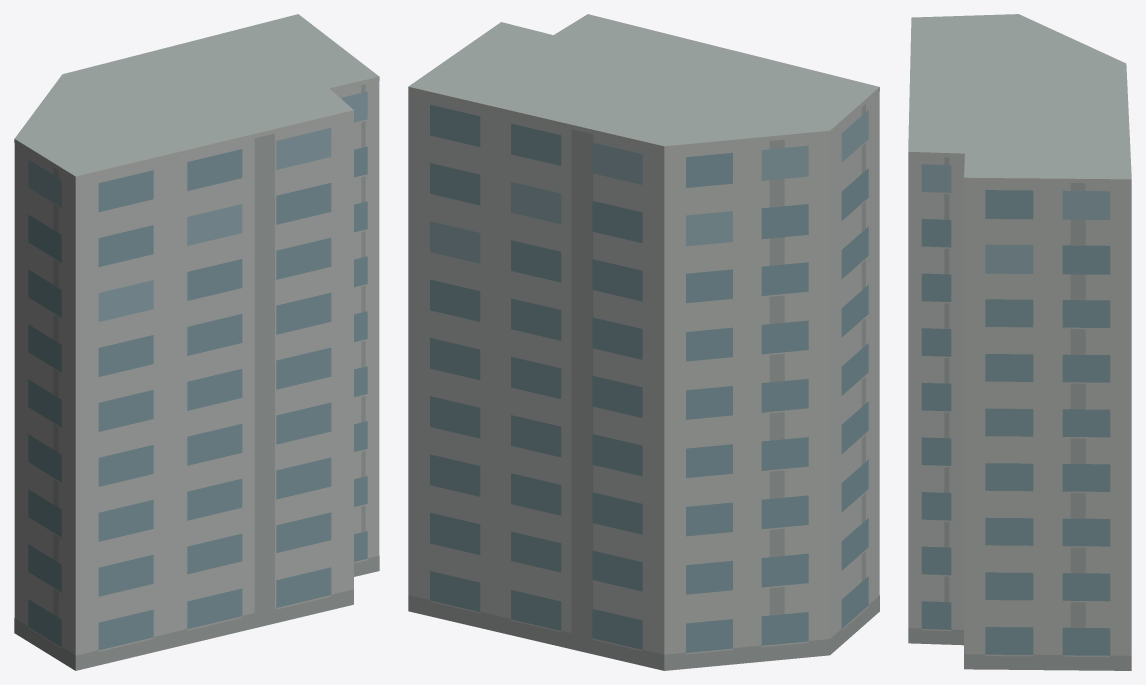
The model's file is residential-b4e7c69e-4fcd-42b4-9d0d-e96d8b46da41.glb.
3 renders of one model, left to right at view 1: azimuth 30°, elevation 25°; view 2: azimuth 150°, elevation 25°; view 3: azimuth 270°, elevation 25°, orthographic. The views are drawn at different scales.
Visible parts, largest first — view 1: residential-b4e7c69e-4fcd-42b4-9d0d-e96d8b46da41.tmp; view 2: residential-b4e7c69e-4fcd-42b4-9d0d-e96d8b46da41.tmp; view 3: residential-b4e7c69e-4fcd-42b4-9d0d-e96d8b46da41.tmp.
Part boxes in pixels (x1=…): residential-b4e7c69e-4fcd-42b4-9d0d-e96d8b46da41.tmp: x1=14, y1=14, x2=379, y2=670; residential-b4e7c69e-4fcd-42b4-9d0d-e96d8b46da41.tmp: x1=408, y1=14, x2=879, y2=670; residential-b4e7c69e-4fcd-42b4-9d0d-e96d8b46da41.tmp: x1=908, y1=14, x2=1131, y2=670.
Size of the model in its own units: 20.21 by 28 by 11.56.
